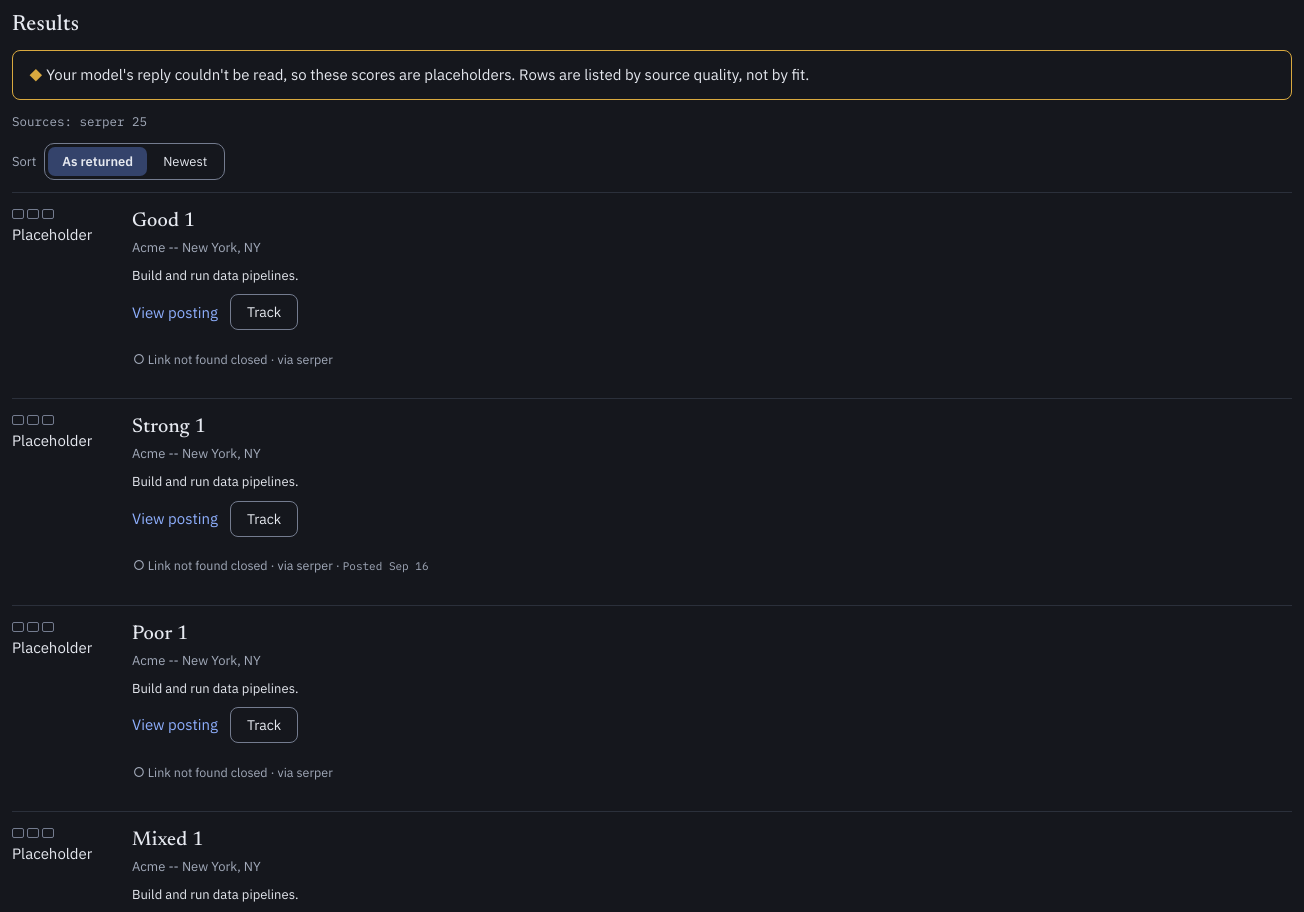
Test: the fallback notice and the order › says rows are listed by source quality only while that is the order shown
Click the button "Newest": click(185, 162) x1=149 y1=147 x2=221 y2=176
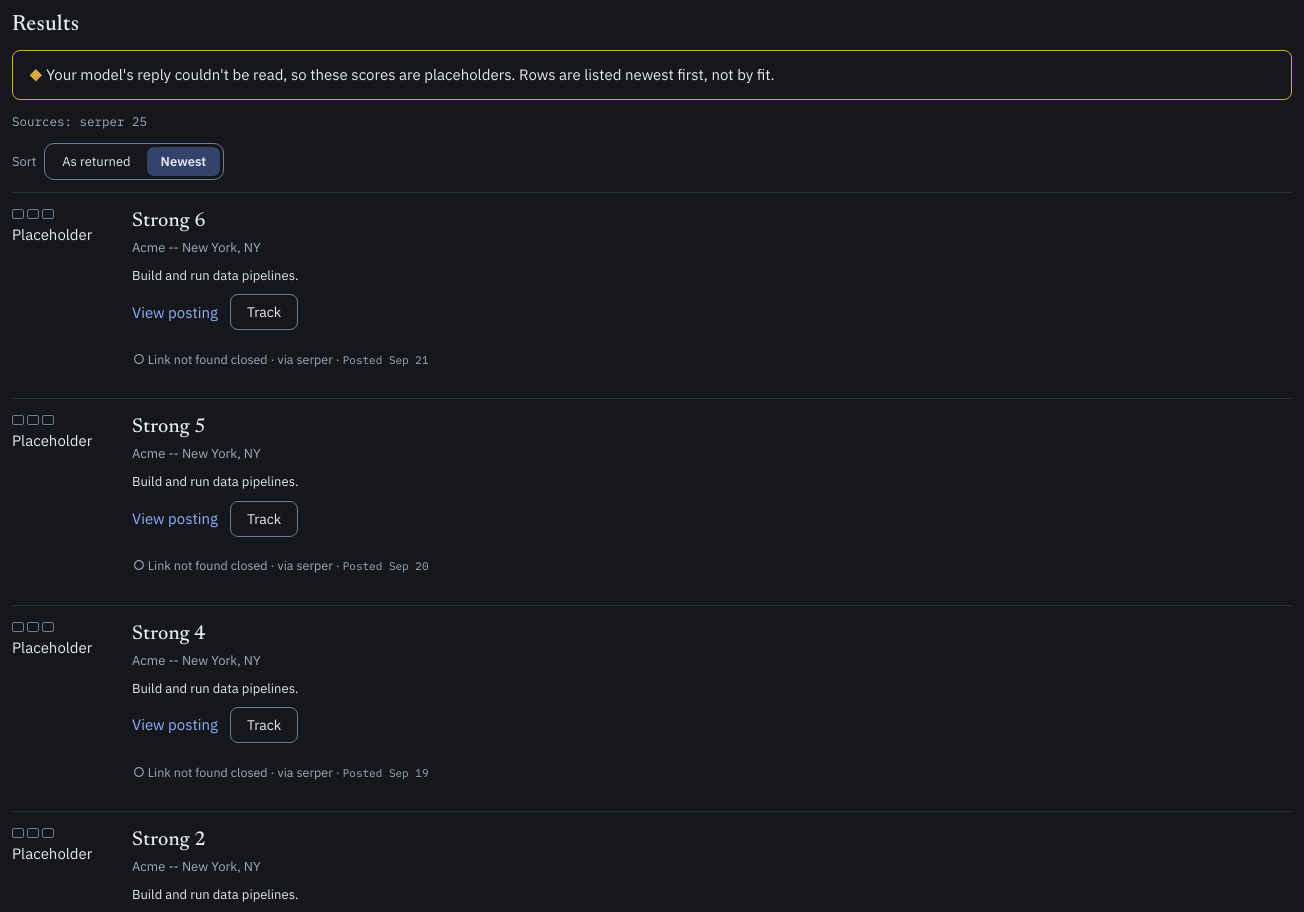
Check: the element with class "bj-disc-fallback" shows "these scores are placeholders", box x1=46 y1=65 x2=519 y2=84
Check: the element with class "bj-disc-fallback" shows "Rows are listed newest first, not by fit.", box x1=519 y1=65 x2=775 y2=84
Check: the element with class "bj-disc-fallback" no longer shows "source quality"
Click the button "As returned": click(96, 162) x1=48 y1=147 x2=145 y2=176
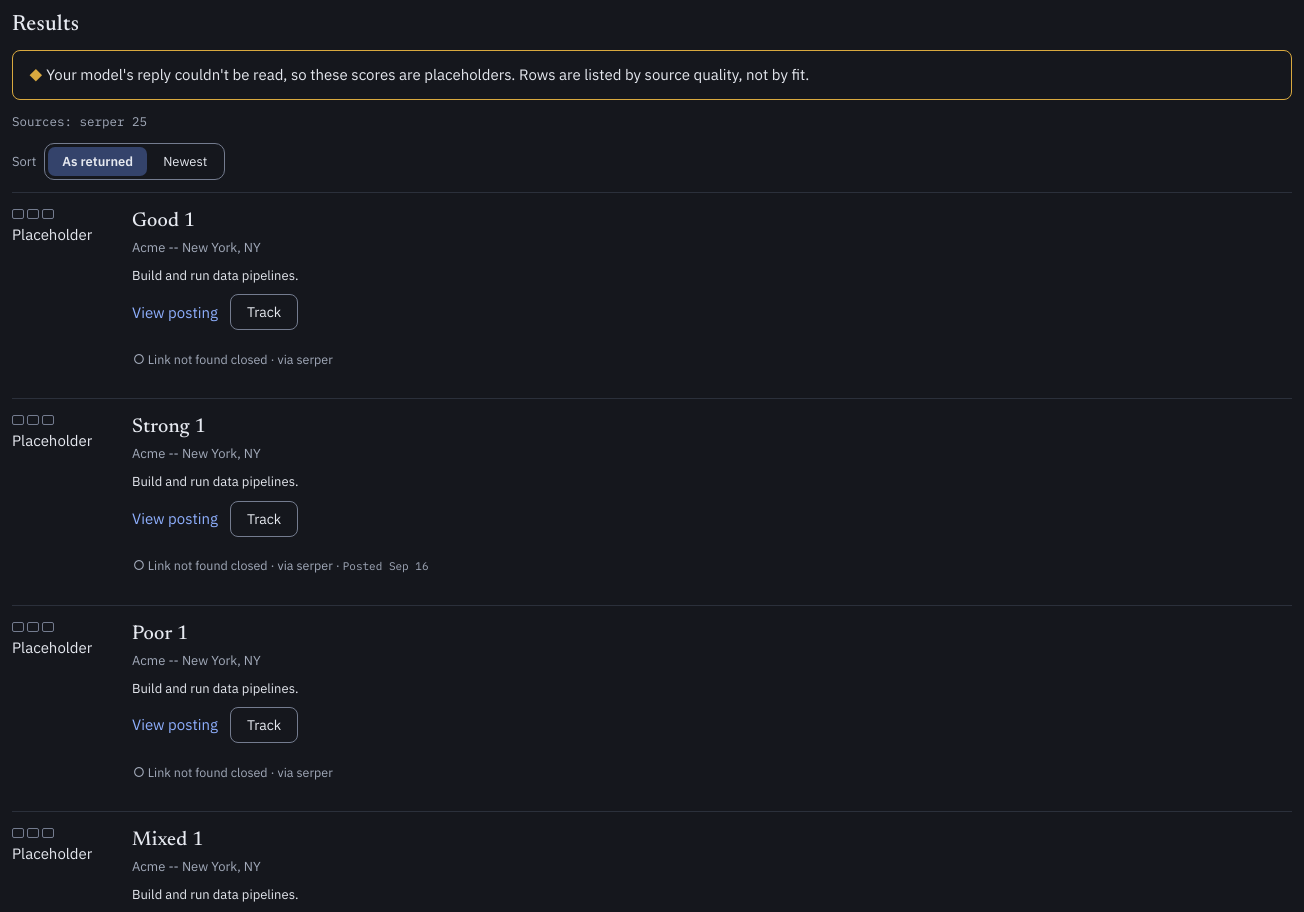
Check: the element with class "bj-disc-fallback" shows "Rows are listed by source quality, not by fit.", box x1=519 y1=65 x2=809 y2=84
